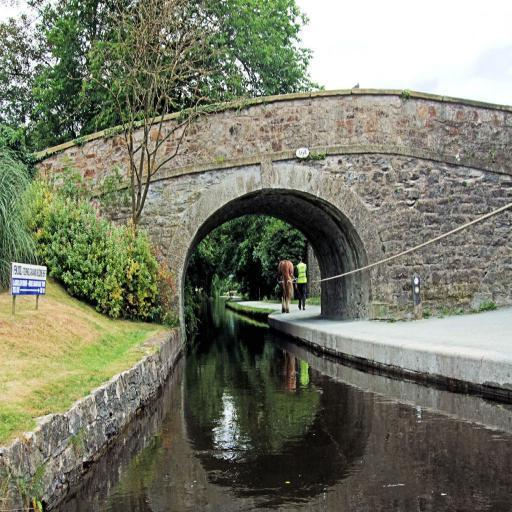horse: (278, 257, 294, 313)
